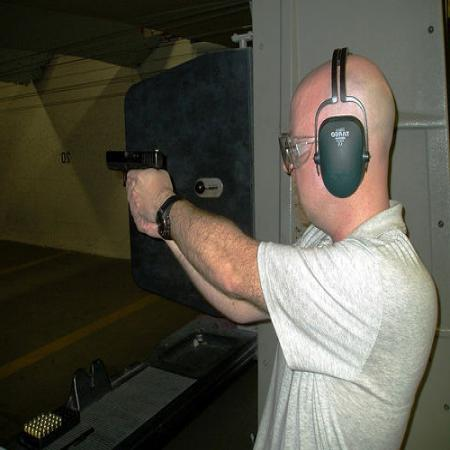Pistol: (106, 145, 169, 187)
